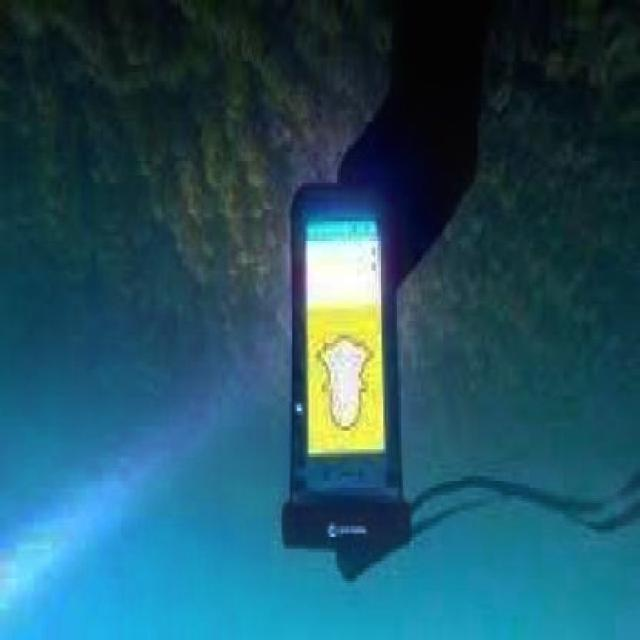cellphone: (297, 186, 398, 511)
